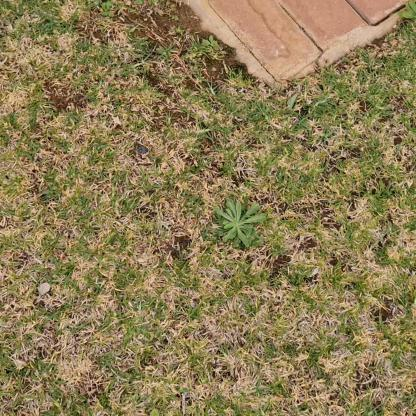Weeds: (213, 197, 266, 250), (203, 36, 221, 52)
